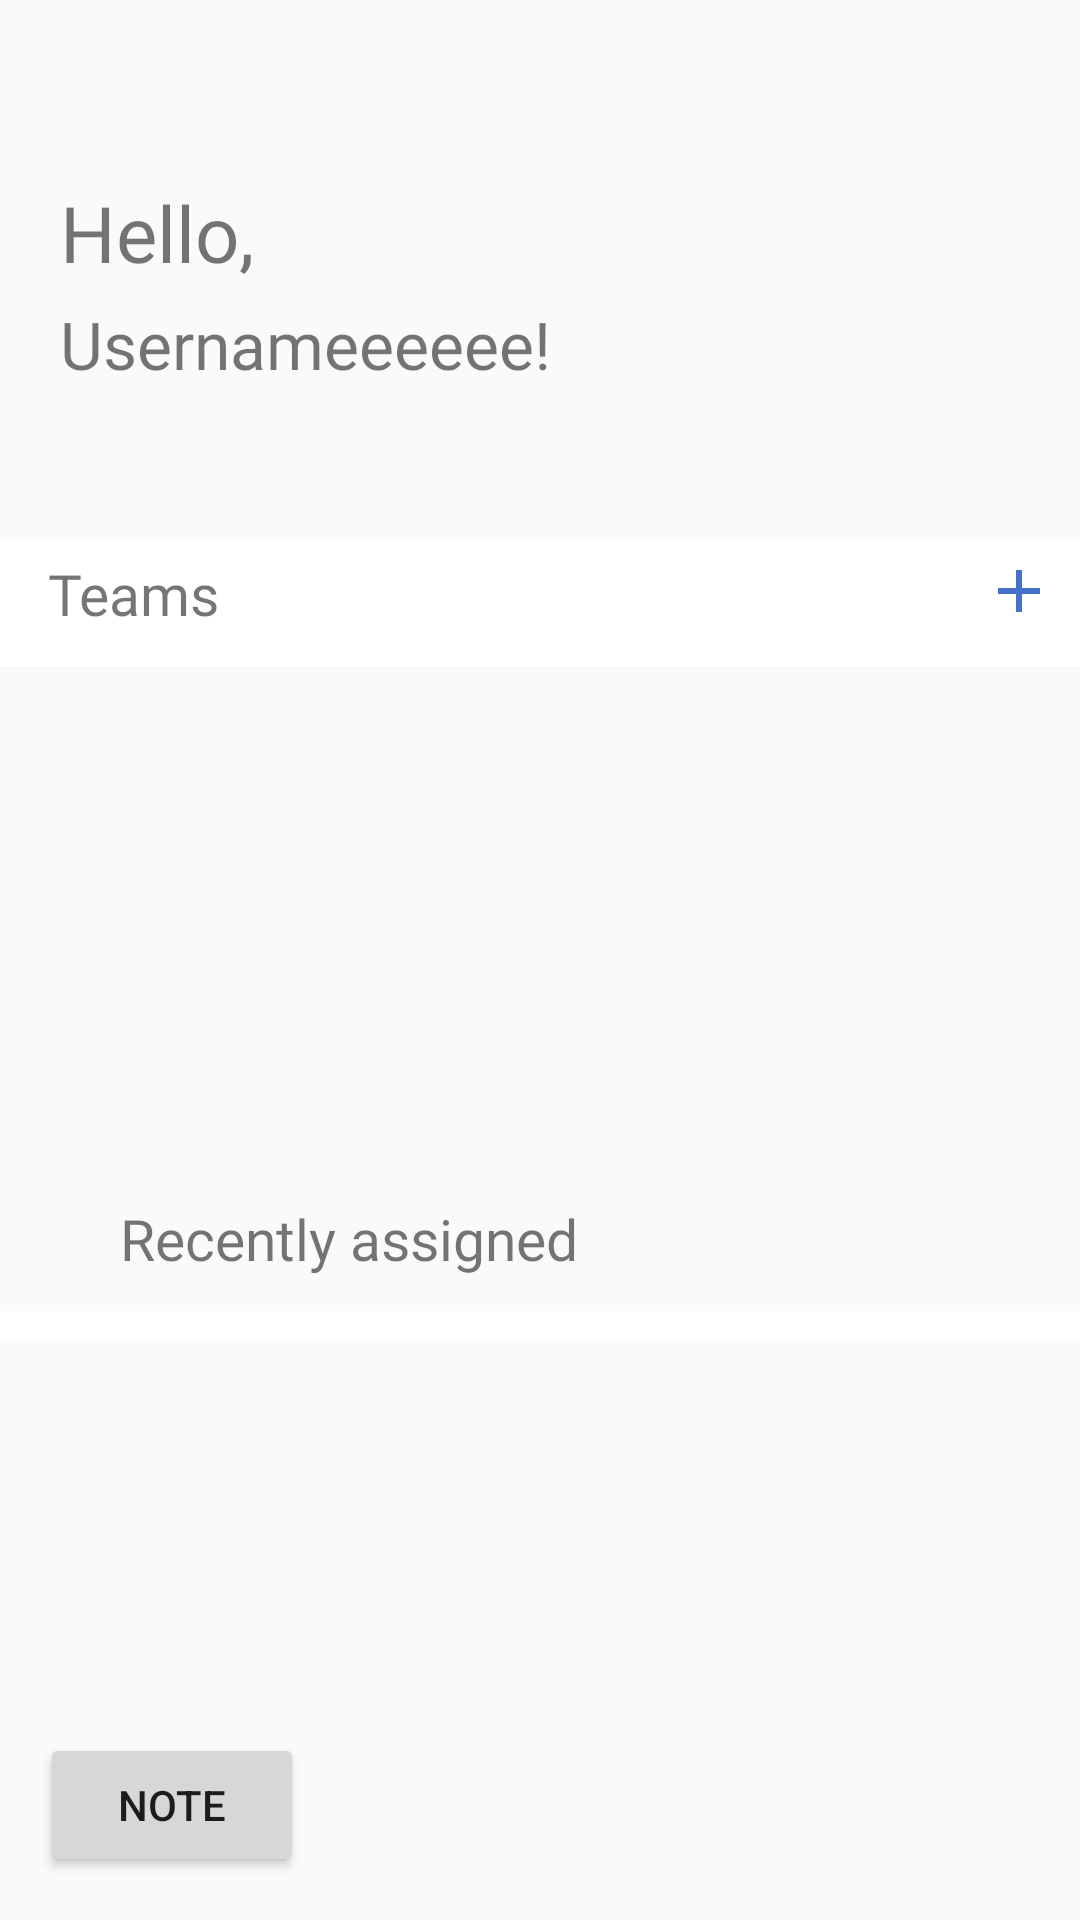

Icon click points for this 1080px×1920px phone screenshot, format [x,y]:
add: [1019,591]
